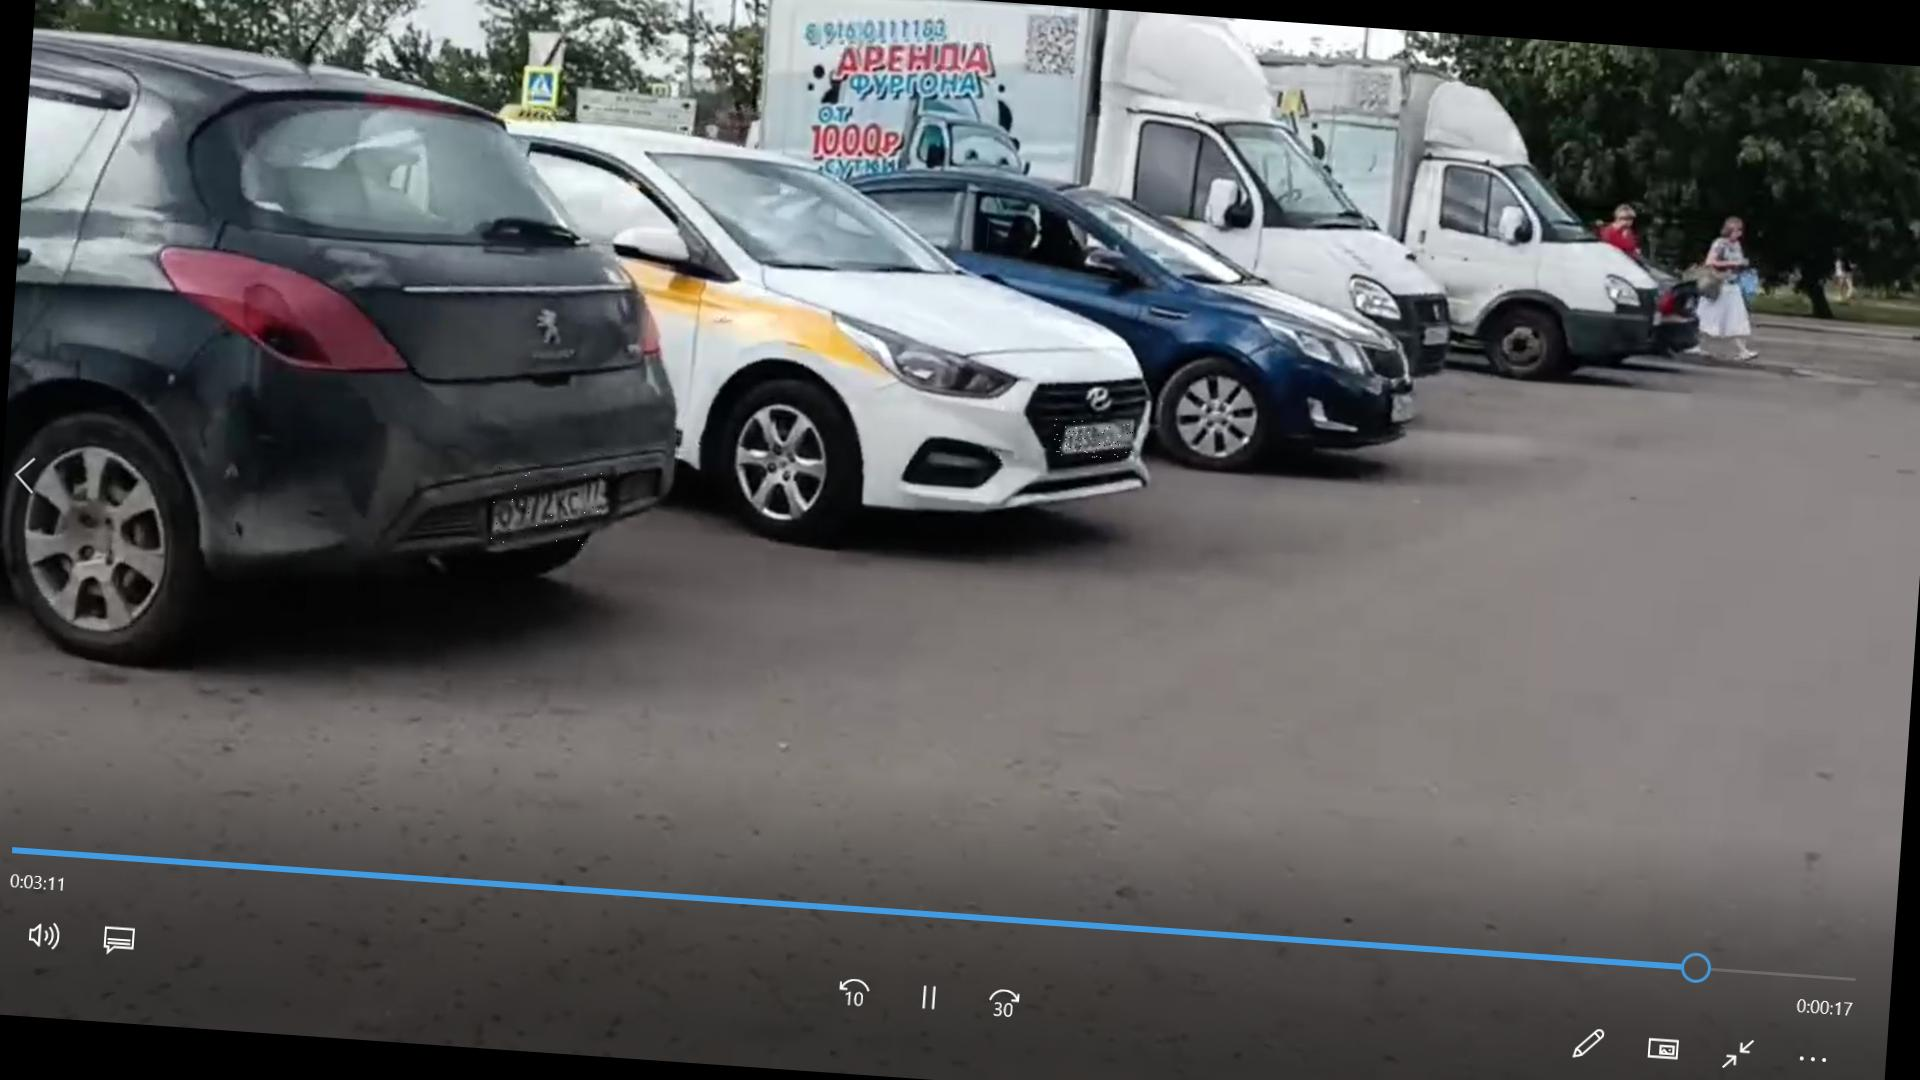plate: (491, 466, 606, 552), (1049, 420, 1137, 462)
